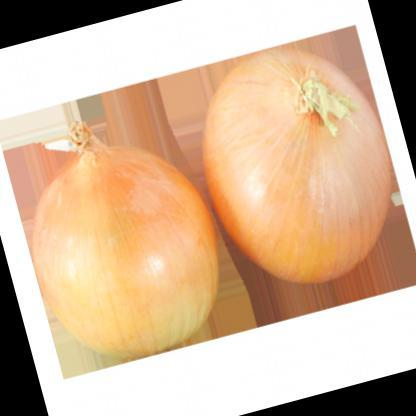onion: (0, 89, 255, 410), (175, 17, 415, 310)
